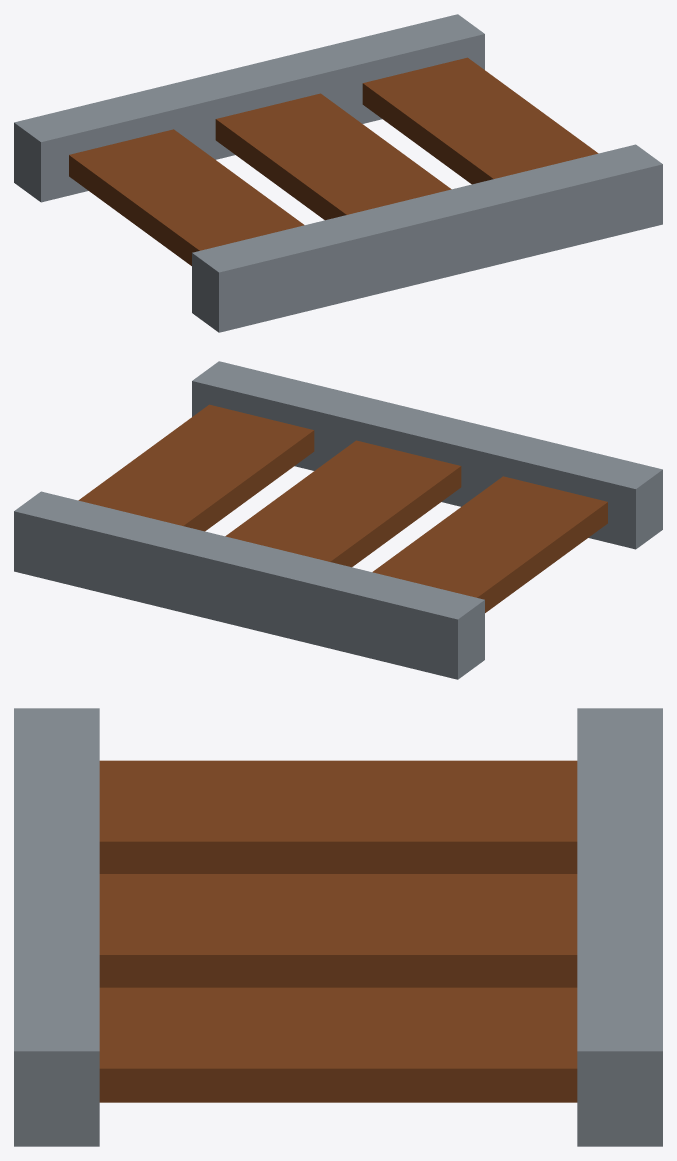
The model's file is track.fbx.
The picture shows the model from 3 angles, top to bottom: view 1: azimuth 30°, elevation 25°; view 2: azimuth 150°, elevation 25°; view 3: azimuth 270°, elevation 25°; orthographic projection. The views are drawn at different scales.
Parts seen in each view (by area): view 1: track; view 2: track; view 3: track.
Part boxes in pixels (bbox=[...]): track: bbox=[14, 14, 662, 332]; track: bbox=[14, 361, 662, 679]; track: bbox=[14, 708, 662, 1146].
Bounding box in the file's own units: 200 × 25.94 × 160.
